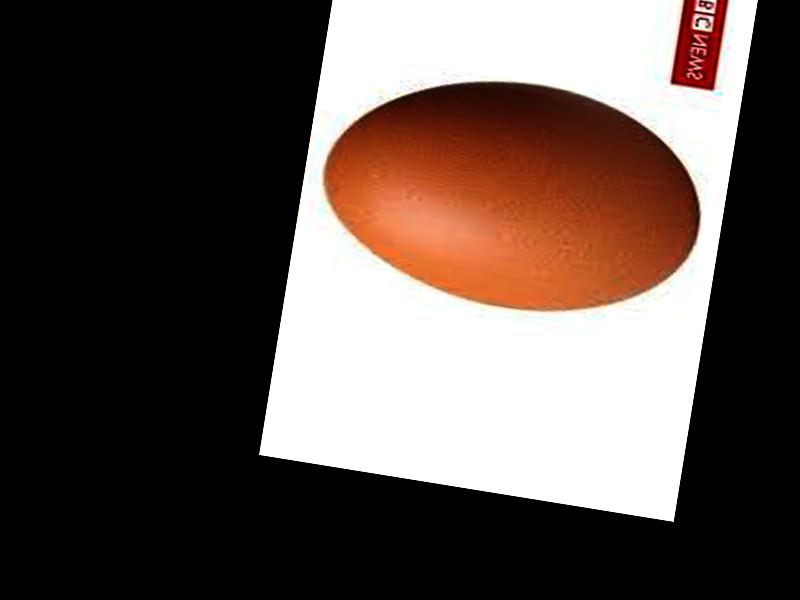Eggs: (311, 55, 714, 335)
